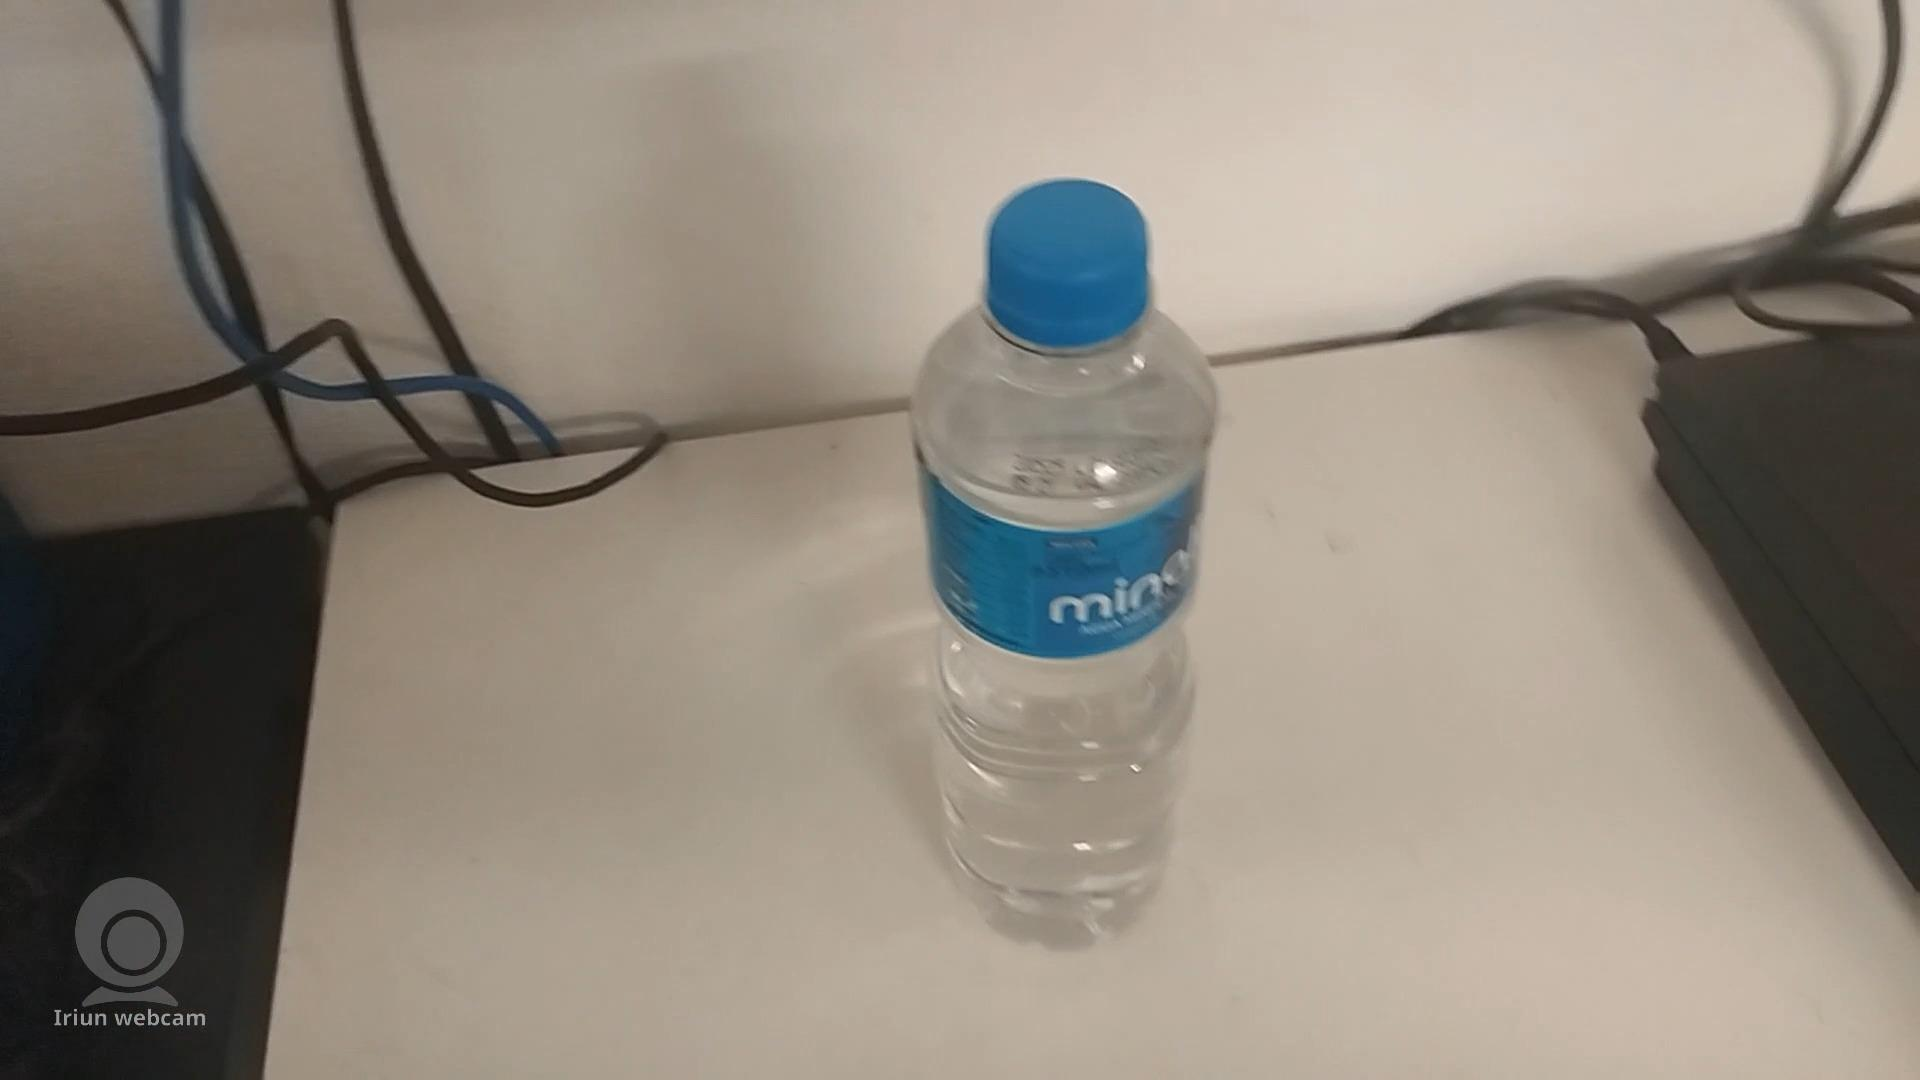agua: (910, 173, 1213, 932)
